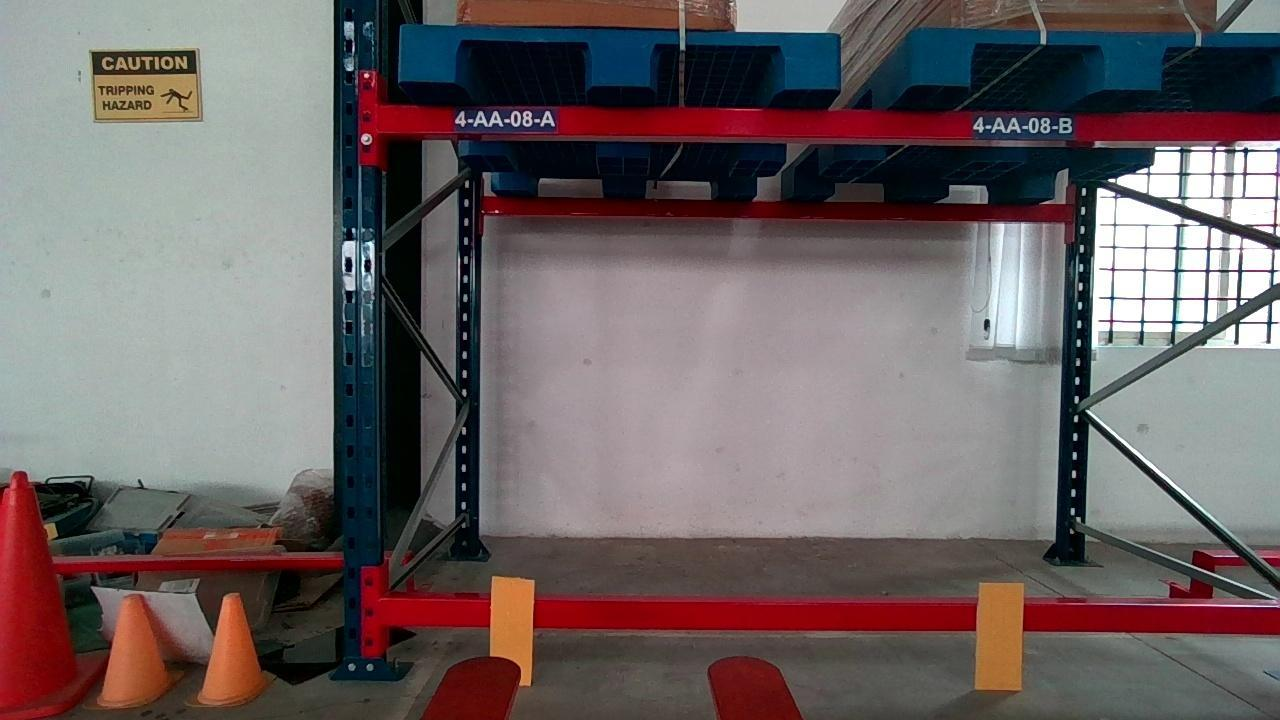h_rack: (379, 597, 1276, 633), (383, 102, 1278, 136)
orange_strip: (975, 581, 1023, 688), (487, 575, 533, 685)
small_pallet: (402, 26, 837, 89), (915, 30, 1278, 103)
